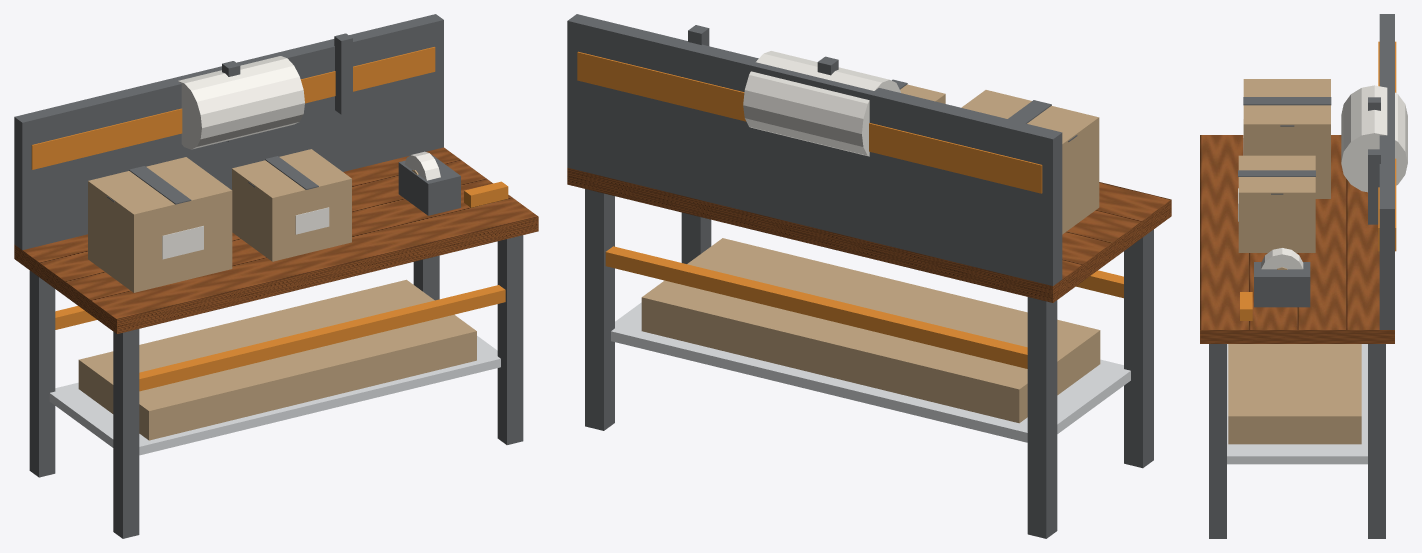
The model's file is self-storage-facility-and-loading-bay-self-storage-fac-82c449ba__34715.glb.
The picture shows the model from 3 angles, left to right: view 1: azimuth 30°, elevation 25°; view 2: azimuth 150°, elevation 25°; view 3: azimuth 270°, elevation 25°; orthographic projection. The views are drawn at different scales.
Parts seen in each view (by area): view 1: self-storage-facility-and-loading-bay-packing-bench; view 2: self-storage-facility-and-loading-bay-packing-bench; view 3: self-storage-facility-and-loading-bay-packing-bench.
Boxes of the visible parts, box(x1,y1,x2,y2) form: self-storage-facility-and-loading-bay-packing-bench: box(14, 14, 538, 538); self-storage-facility-and-loading-bay-packing-bench: box(567, 14, 1171, 538); self-storage-facility-and-loading-bay-packing-bench: box(1200, 14, 1407, 538).
Bounding box in the file's own units: 1.8 × 1.48 × 0.81.
Materials: 6 (1 with a texture image).
